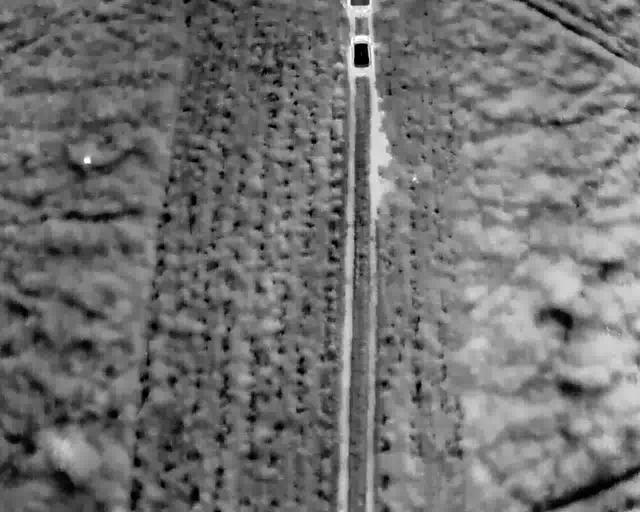car: (351, 34, 371, 68)
